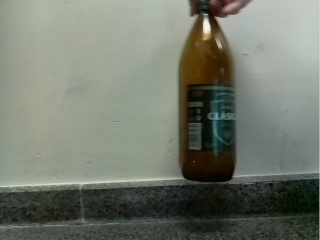pote cristal: (177, 1, 238, 182)
